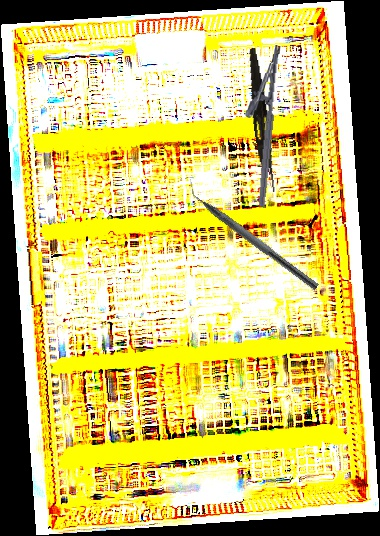Chopper: (179, 177, 327, 291)
Dressing Forceps: (241, 47, 281, 194)
Needle Holder: (235, 42, 283, 208)
